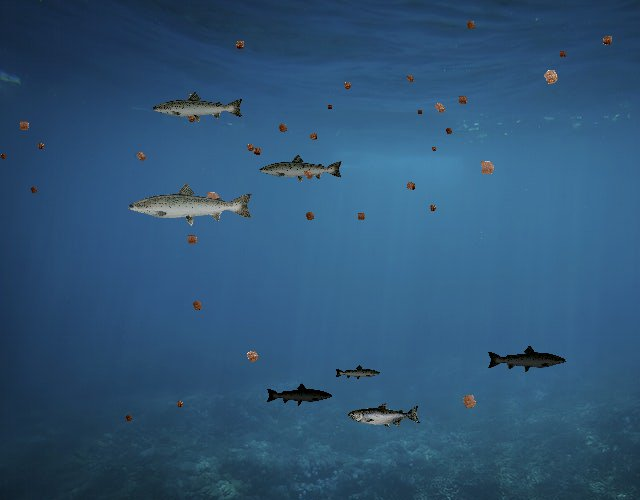Fish: (126, 181, 255, 227), (152, 91, 246, 124), (258, 153, 344, 184), (486, 345, 567, 374), (348, 402, 421, 428), (266, 383, 334, 407), (334, 364, 381, 381)
Pellet: (240, 344, 265, 369), (461, 16, 480, 35), (339, 77, 356, 94), (172, 397, 187, 412), (122, 411, 136, 425), (426, 201, 440, 215), (34, 139, 48, 153)
